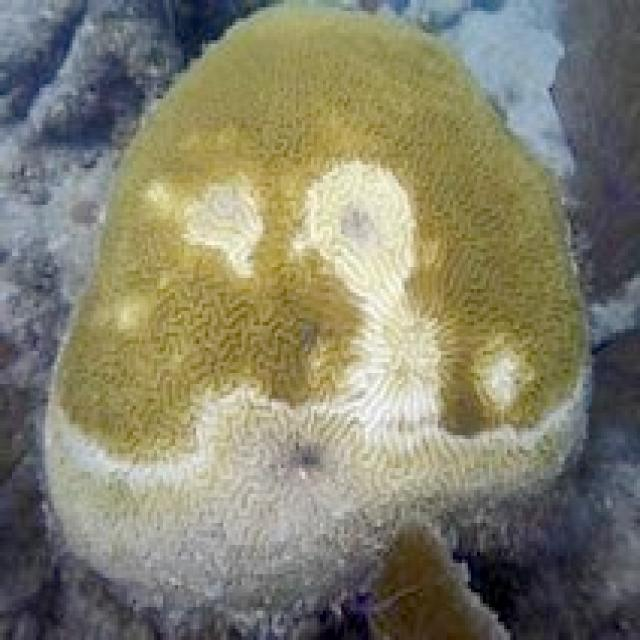Coral: (42, 0, 595, 640), (367, 522, 512, 640)
